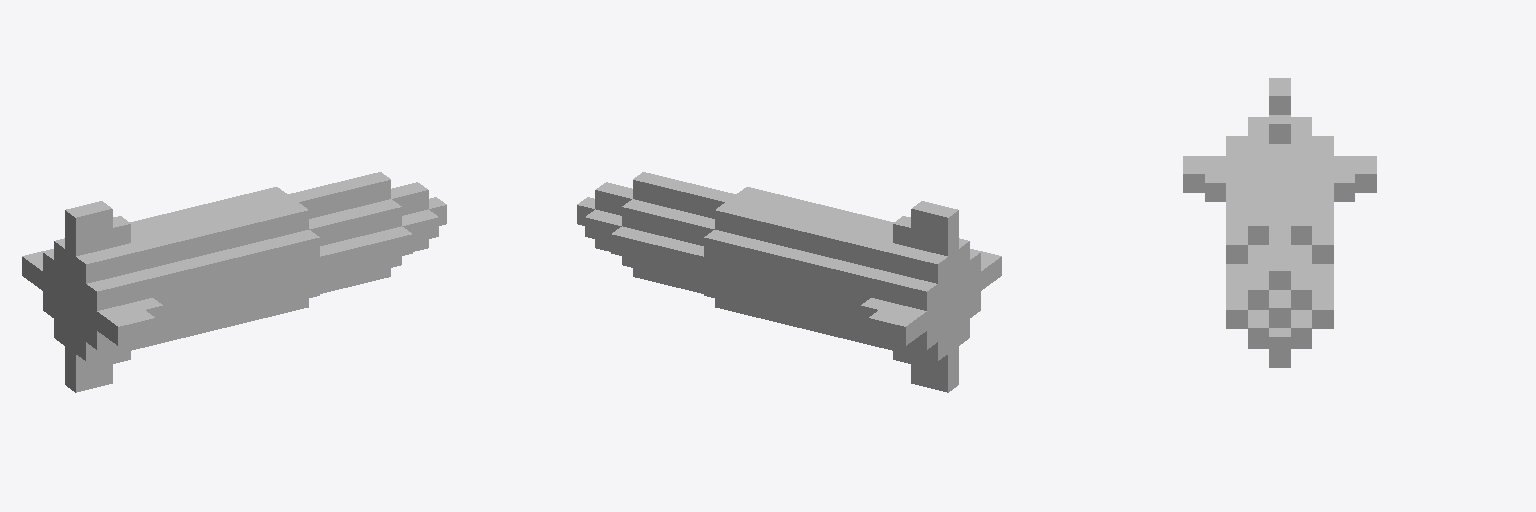
File: rocket.obj
3 views of the same model, side by side, from view 1: azimuth 30°, elevation 25°; view 2: azimuth 150°, elevation 25°; view 3: azimuth 270°, elevation 25° (orthographic).
Visible parts, largest first — view 1: rocket; view 2: rocket; view 3: rocket.
Boxes of the visible parts, <box> form: rocket: <box>22,172,446,392</box>; rocket: <box>577,172,1001,392</box>; rocket: <box>1183,78,1376,367</box>.
Size of the model in its own units: 20 by 9 by 9.